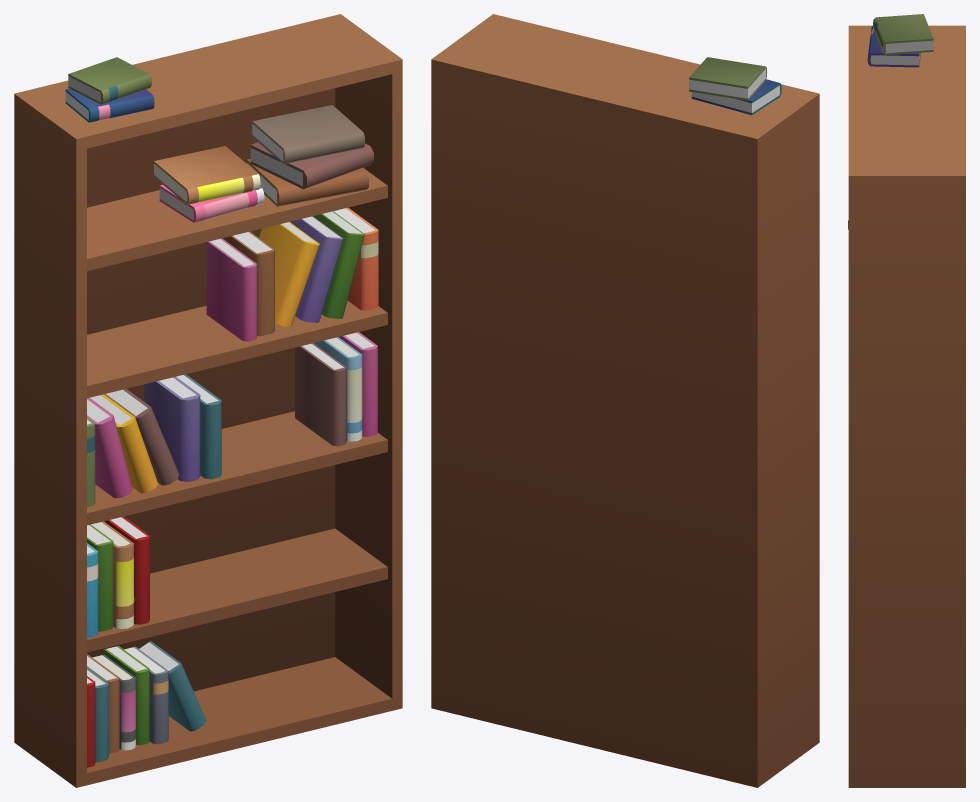
File: CR_Bookshelf_003.FBX
The picture shows the model from 3 angles, left to right: view 1: azimuth 30°, elevation 25°; view 2: azimuth 150°, elevation 25°; view 3: azimuth 270°, elevation 25°; orthographic projection. The views are drawn at different scales.
Visible parts, largest first — view 1: CR_Bookshelf_003, CR_BookGroup_005, CR_BookGroup_002, CR_BookGroup_009, CR_BookGroup_003, CR_BookGroup_006, CR_BookGroup_001, CR_BookGroup_007, CR_BookGroup_008, CR_BookGroup_004; view 2: CR_Bookshelf_003, CR_BookGroup_008; view 3: CR_Bookshelf_003, CR_BookGroup_008.
Part boxes in pixels (left/top/right/bottom): CR_Bookshelf_003: left=14, top=14, right=402, bottom=787; CR_BookGroup_005: left=206, top=207, right=378, bottom=341; CR_BookGroup_002: left=87, top=374, right=221, bottom=507; CR_BookGroup_009: left=247, top=105, right=373, bottom=206; CR_BookGroup_003: left=87, top=641, right=206, bottom=753; CR_BookGroup_006: left=295, top=332, right=377, bottom=446; CR_BookGroup_001: left=87, top=516, right=149, bottom=637; CR_BookGroup_007: left=154, top=146, right=264, bottom=222; CR_BookGroup_008: left=65, top=57, right=154, bottom=122; CR_BookGroup_004: left=87, top=667, right=108, bottom=767; CR_Bookshelf_003: left=431, top=14, right=819, bottom=787; CR_BookGroup_008: left=689, top=57, right=781, bottom=115; CR_Bookshelf_003: left=848, top=25, right=965, bottom=787; CR_BookGroup_008: left=867, top=14, right=933, bottom=67.
Bounding box in the file's own units: 77.55 × 154 × 25.68.
1 material, 1 textured.
